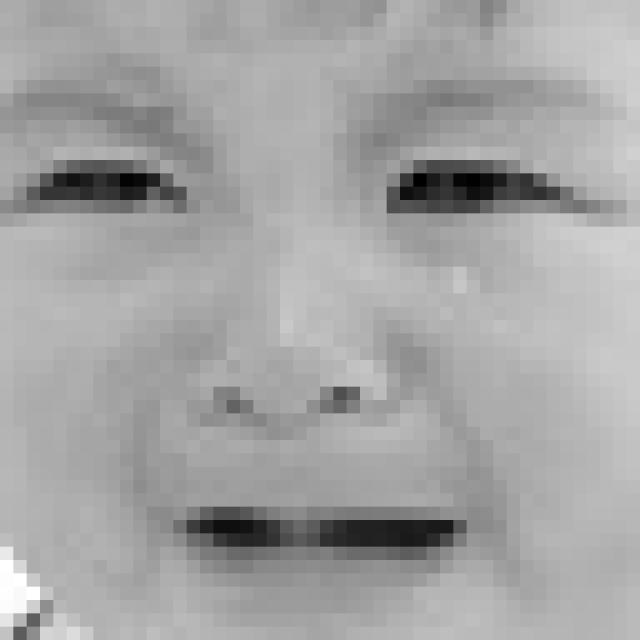sad: (0, 71, 612, 622)
